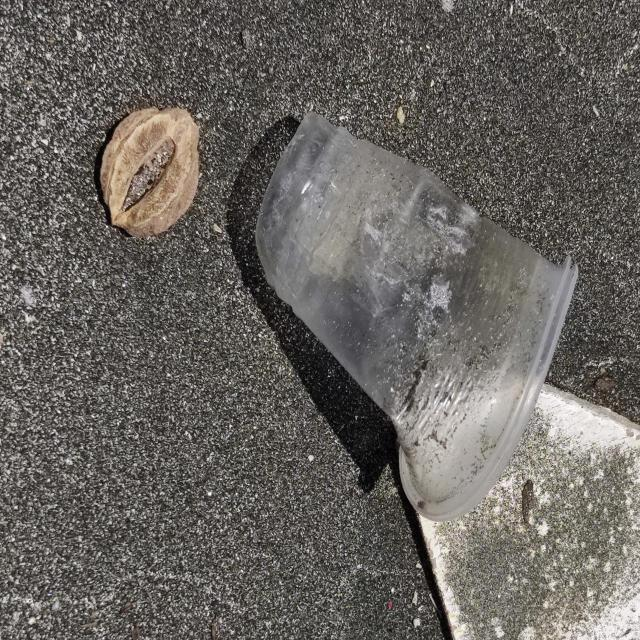plastic_waste: (255, 110, 583, 520)
